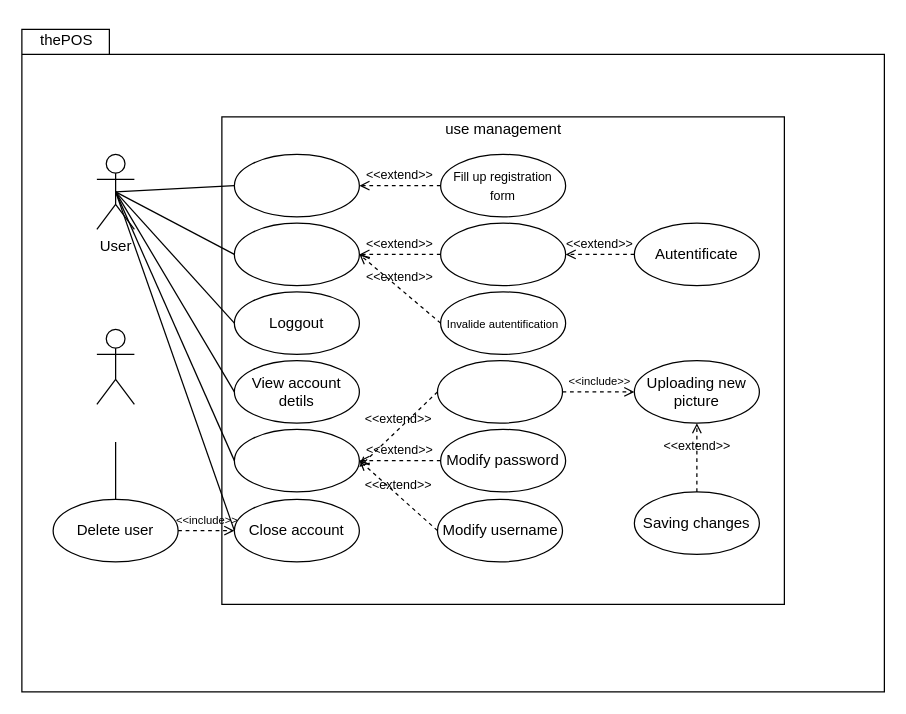
This 906x714 diagram has some shape labels left out. Here are the shapes that lost their labels. From the top down, the centre of each, then its label:
(x=296, y=185): Create account
(x=296, y=254): Loggin atempt
(x=502, y=254): Valide autentification
(x=115, y=366): Administrator
(x=499, y=391): Add/Modify picture
(x=296, y=460): Modity account
